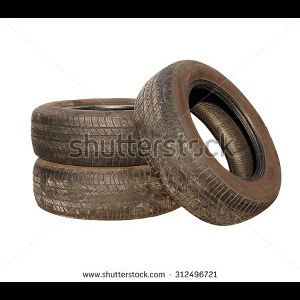tire: (135, 60, 283, 226), (32, 99, 190, 166), (32, 156, 192, 219)
